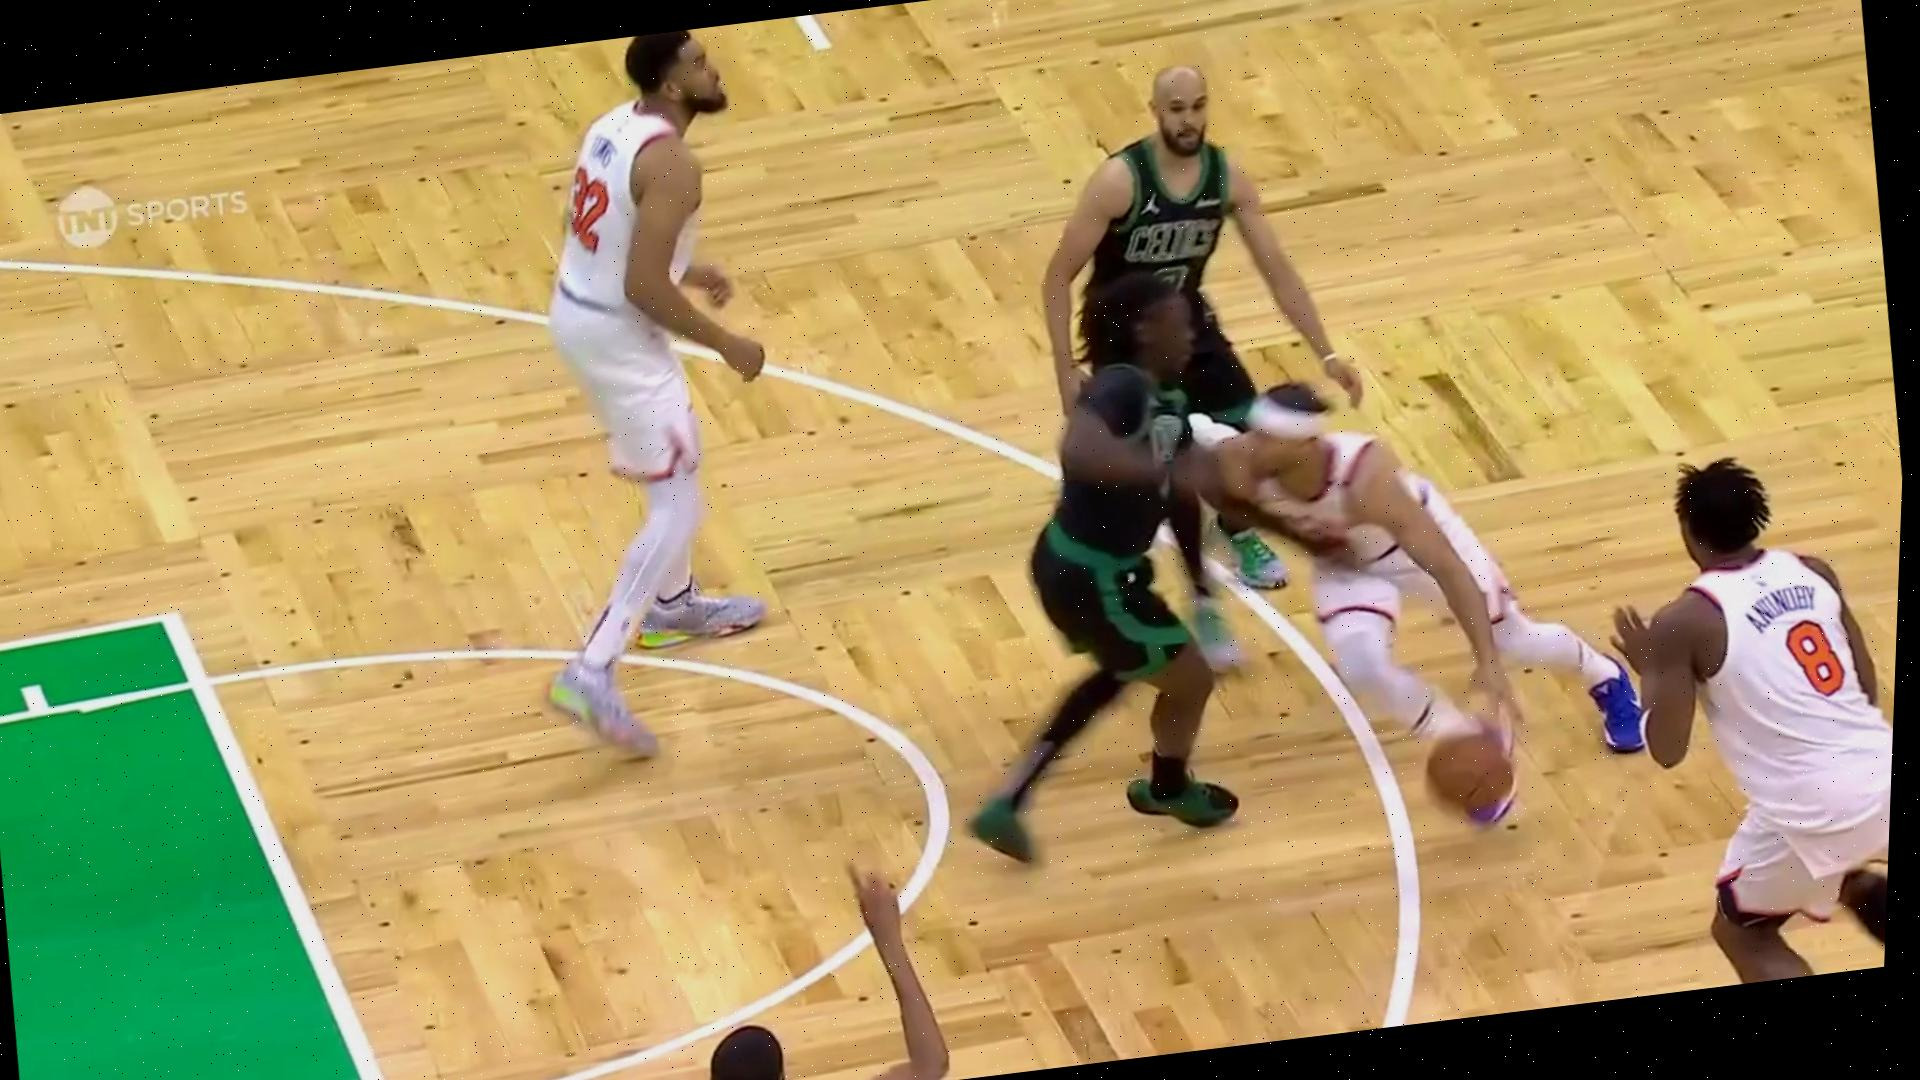foul: (949, 216, 1665, 891)
